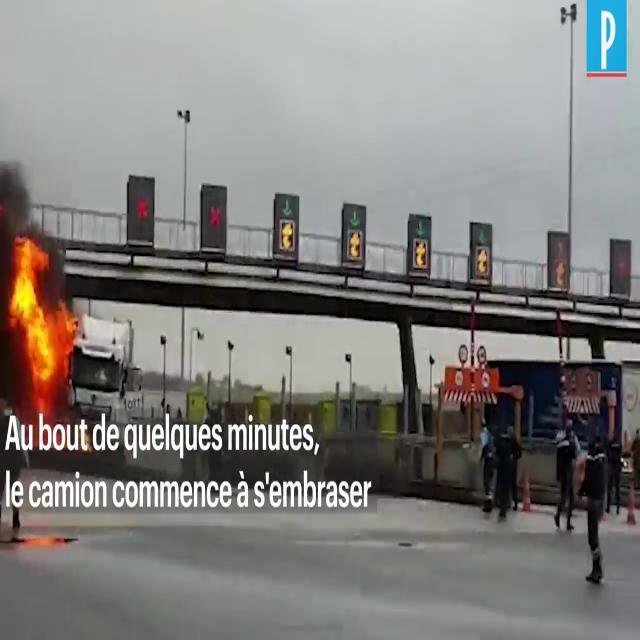Fire: (8, 228, 78, 388)
